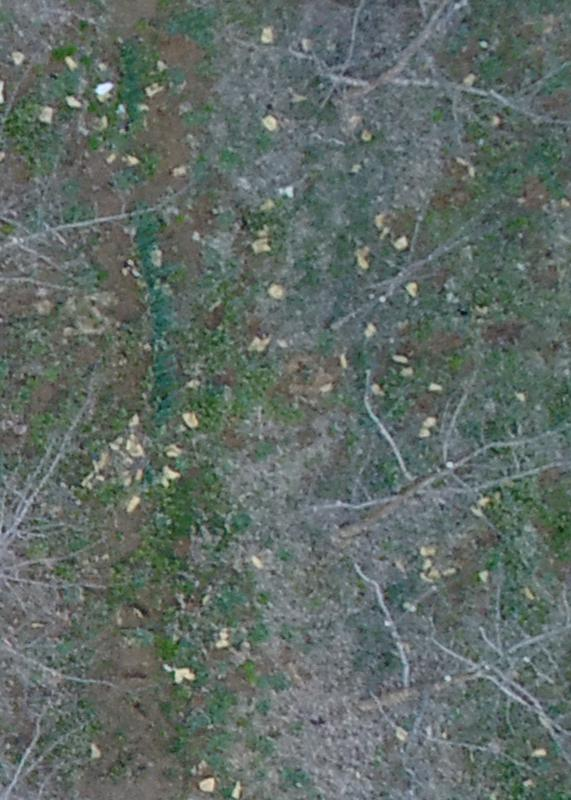apple: (324, 555, 561, 782), (10, 70, 176, 328), (338, 387, 561, 558), (306, 10, 561, 136), (326, 196, 478, 340)
